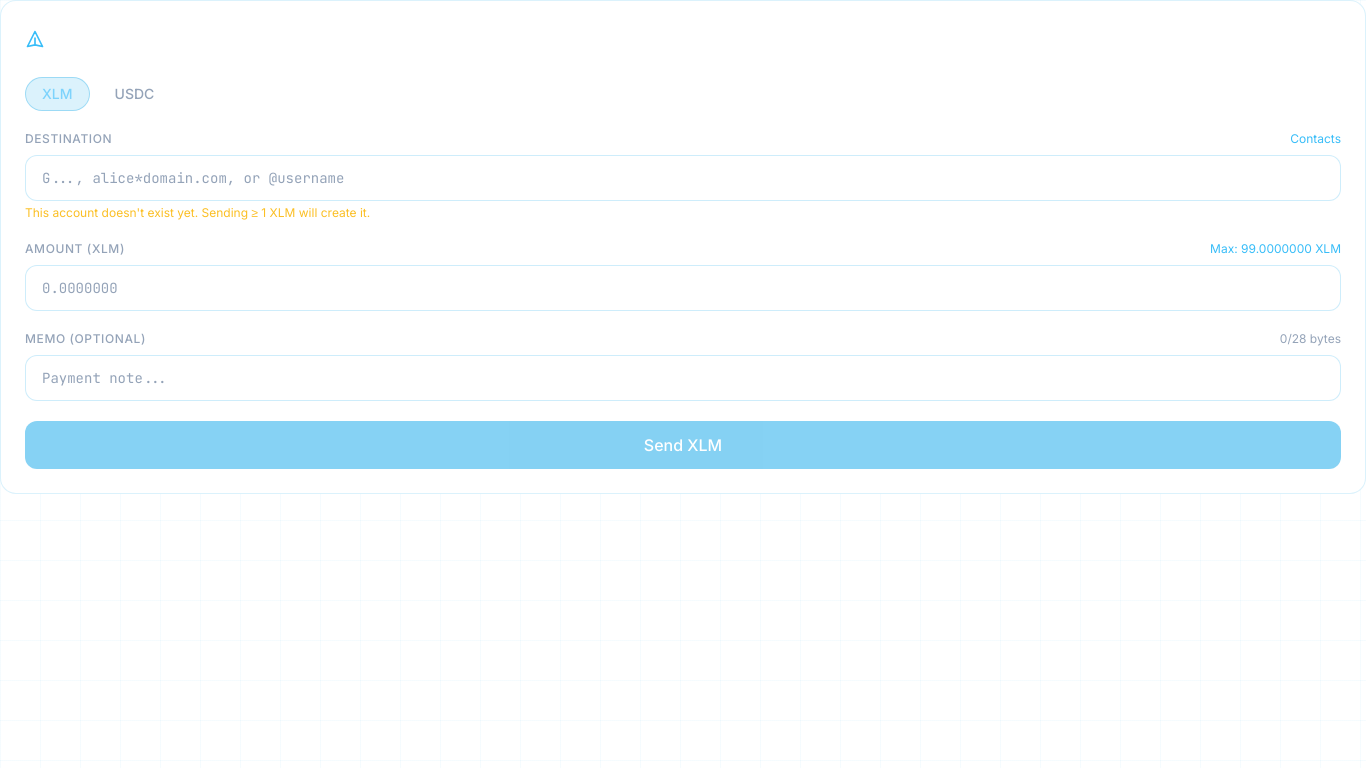
Test: SendPaymentForm › Submit button disabled state › enables submit button when destination and amount are valid
In the field with placeholder "G..., alice*domain.com, or @username": [683, 178] box [25,155,1341,201], type "GAAAAAAAAAAAAAAAAAAAAAAAAAAAAAAAAAAAAAAAAAAAAAAAAAAAAAAA"
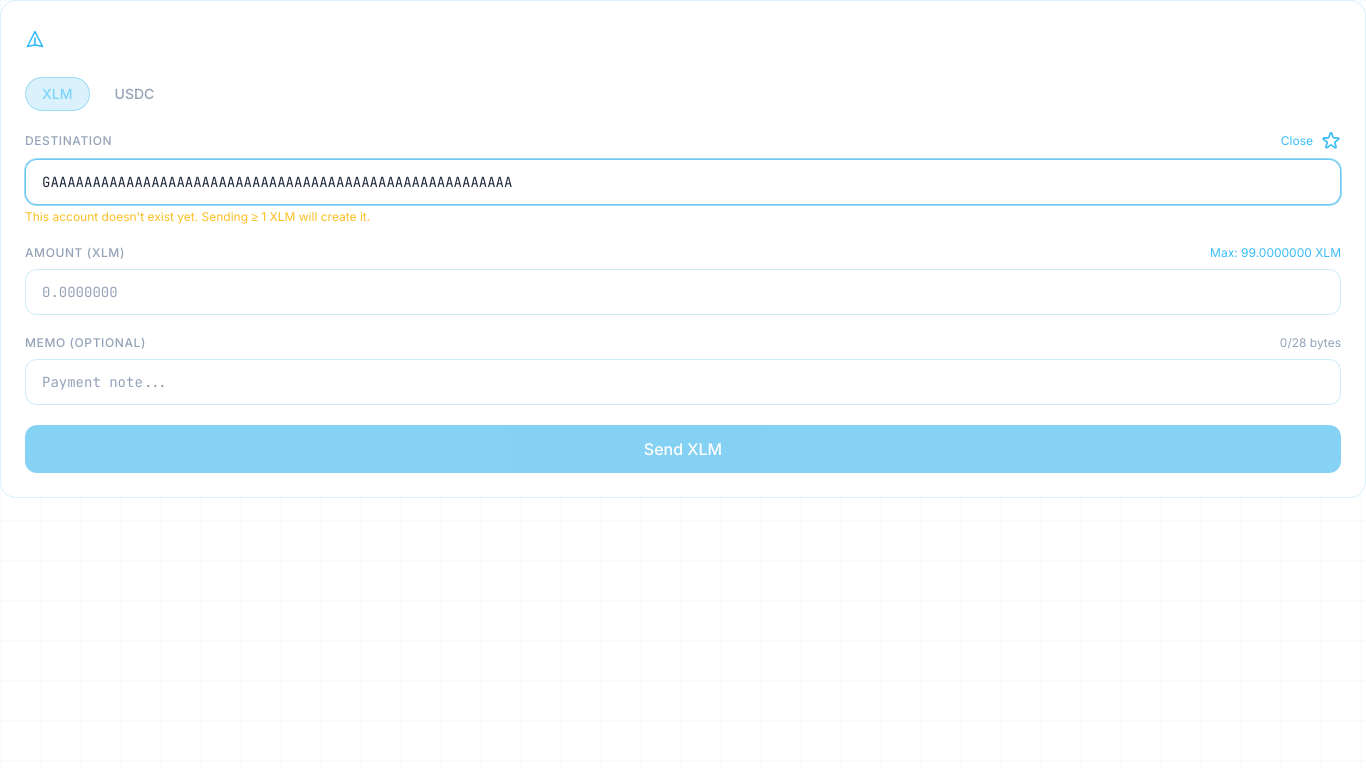
In the number field with placeholder "0.0000000": [683, 292] box [25,269,1341,315], type "50"
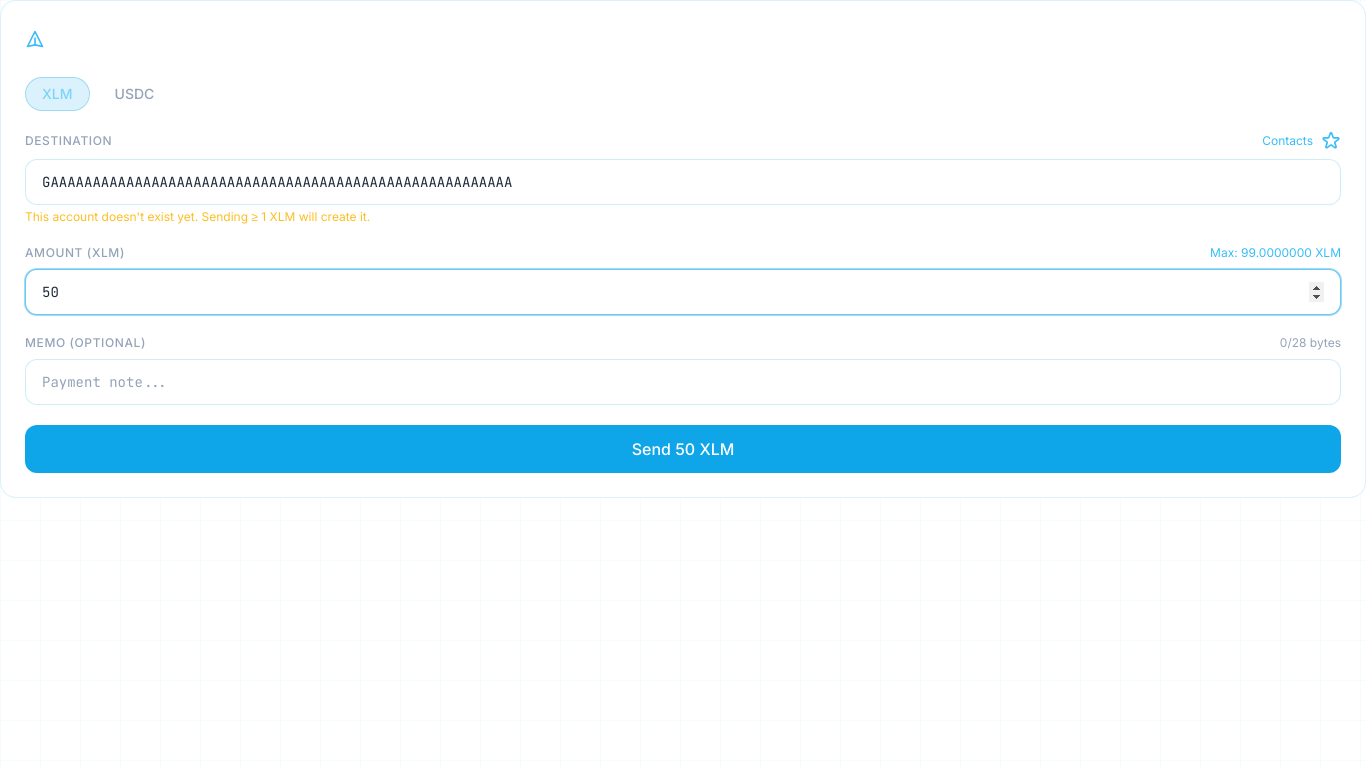
Check: the button "Send 50 XLM" is enabled, box [25,425,1341,473]
